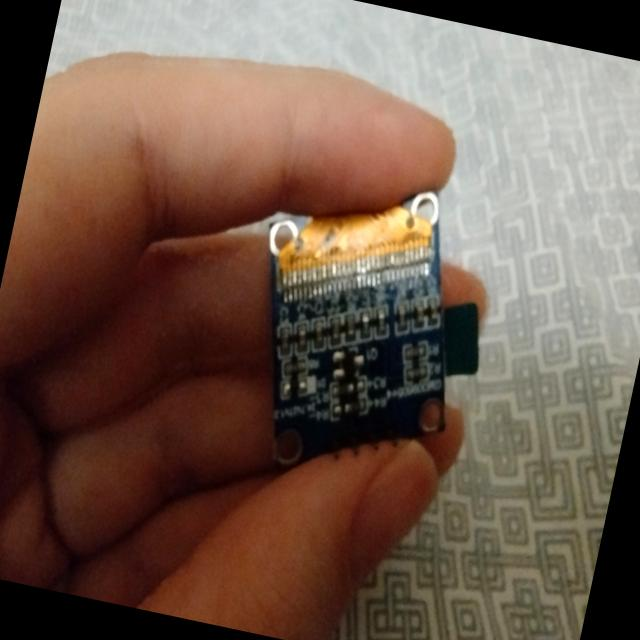oled: (223, 154, 513, 506)
